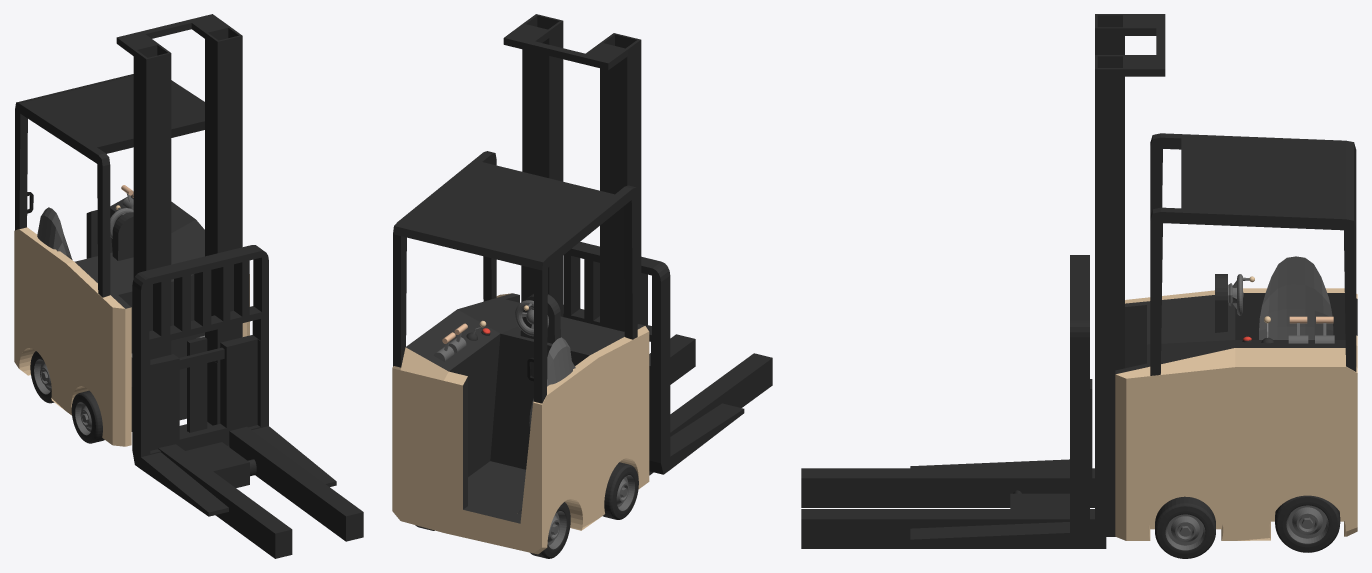
Rendered from Mesh_Forklift_small.fbx.
3 renders of one model, left to right at view 1: azimuth 30°, elevation 25°; view 2: azimuth 150°, elevation 25°; view 3: azimuth 270°, elevation 25°, orthographic. The views are drawn at different scales.
Visible parts, largest first — view 1: Pala.001, Cube.056, Estructura_pala.001, Cube.037, Cube.047, Cube.054, Ruedas_delanteras.004, Plane.001, Ruedas_delanteras.002; view 2: Cube.056, Cube.037, Estructura_pala.001, Pala.001, Cube.047, Ruedas_delanteras.004, Plane.001, Ruedas_delanteras.002, Cube.044; view 3: Cube.056, Cube.037, Cube.047, Estructura_pala.001, Pala.001, Plane.001, Ruedas_delanteras.005, Ruedas_delanteras.003, Cube.054.
Boxes of the visible parts, x1,y1,x2,y2 form: Pala.001: (132, 245, 336, 516); Cube.056: (14, 193, 249, 446); Estructura_pala.001: (116, 14, 242, 433); Cube.037: (15, 74, 204, 297); Cube.047: (158, 426, 363, 558); Cube.054: (185, 442, 256, 487); Ruedas_delanteras.004: (71, 390, 104, 443); Plane.001: (37, 207, 72, 259); Ruedas_delanteras.002: (30, 351, 54, 403); Cube.056: (392, 293, 649, 554); Cube.037: (393, 151, 637, 403); Estructura_pala.001: (503, 14, 641, 331); Pala.001: (521, 241, 744, 474); Cube.047: (649, 334, 772, 475); Ruedas_delanteras.004: (603, 462, 638, 519); Plane.001: (529, 337, 575, 429); Ruedas_delanteras.002: (530, 502, 570, 558); Cube.044: (515, 300, 548, 336); Cube.056: (1115, 274, 1357, 540); Cube.037: (1150, 133, 1356, 375); Cube.047: (801, 468, 1106, 548); Estructura_pala.001: (1095, 14, 1165, 536); Pala.001: (910, 255, 1092, 547); Plane.001: (1259, 256, 1333, 339); Ruedas_delanteras.005: (1155, 496, 1215, 558); Ruedas_delanteras.003: (1275, 495, 1340, 552); Cube.054: (1010, 490, 1069, 508).
Size of the model in its own units: 1.07 by 2.92 by 3.01.
